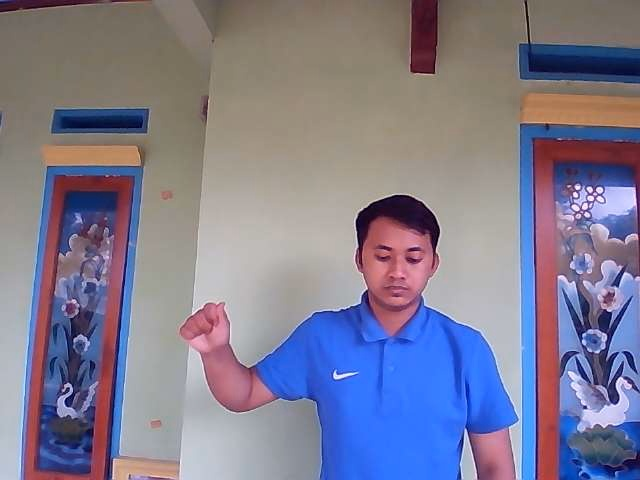A: (178, 300, 231, 351)
